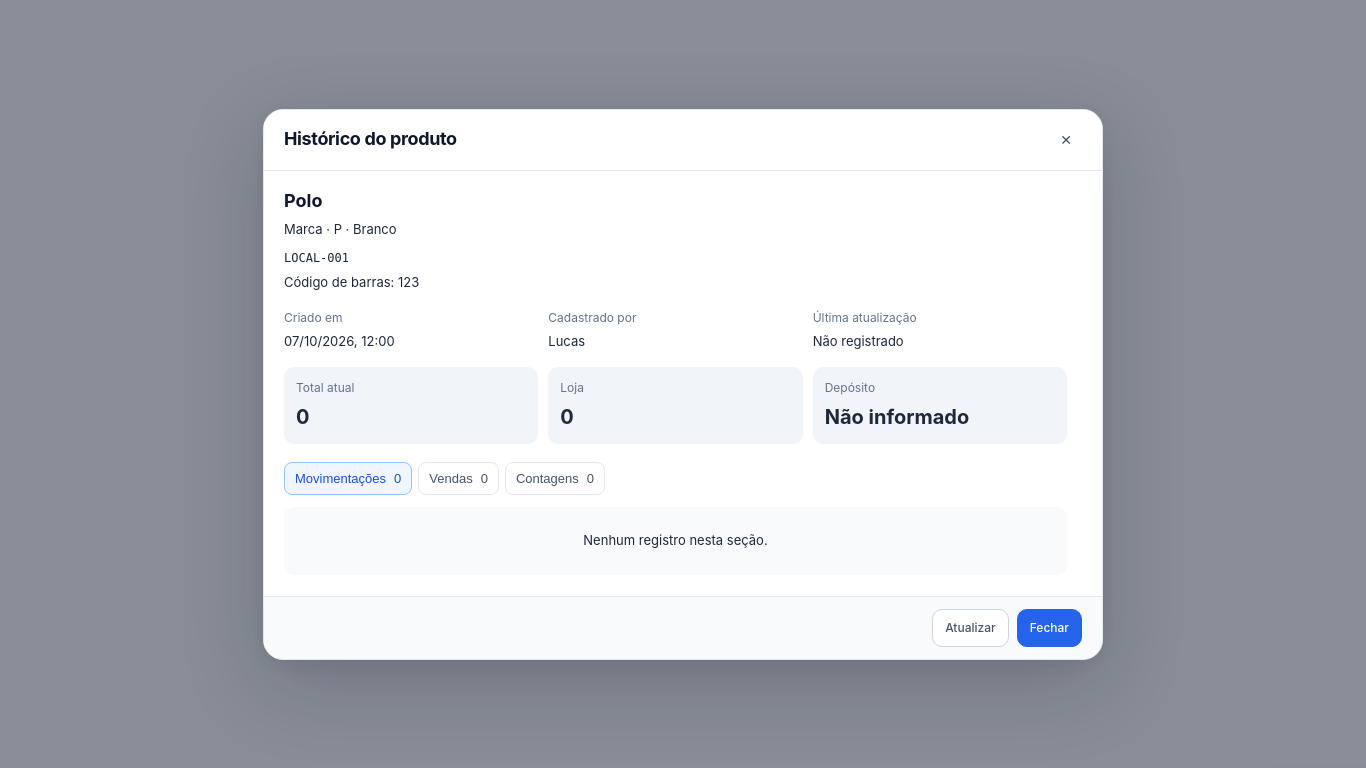
Product history › keeps personal sales private and does not turn a failed request into zero records
Step 1. Click the button "Vendas 0" → (459, 478), box [418,462,499,495]
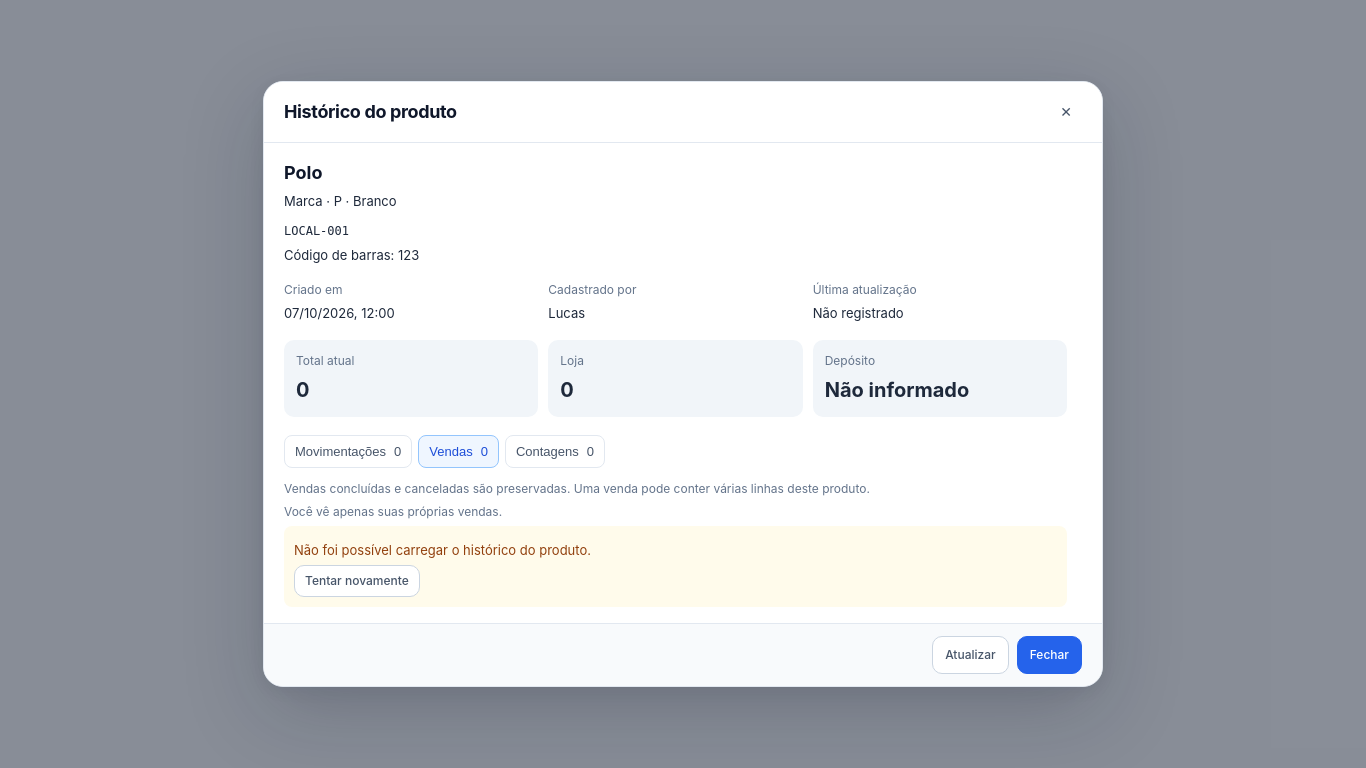
expect the text "Você vê apenas suas próprias vendas." is shown: met, box [284,504,502,518]
expect the message "Não foi possível carregar o histórico do produto. Tentar novamente" is shown: met, box [284,526,1067,607]
expect the text with class "history-empty" is gone: met
Step 2. Click the button "Tentar novamente" → (357, 581), box [294,565,420,597]
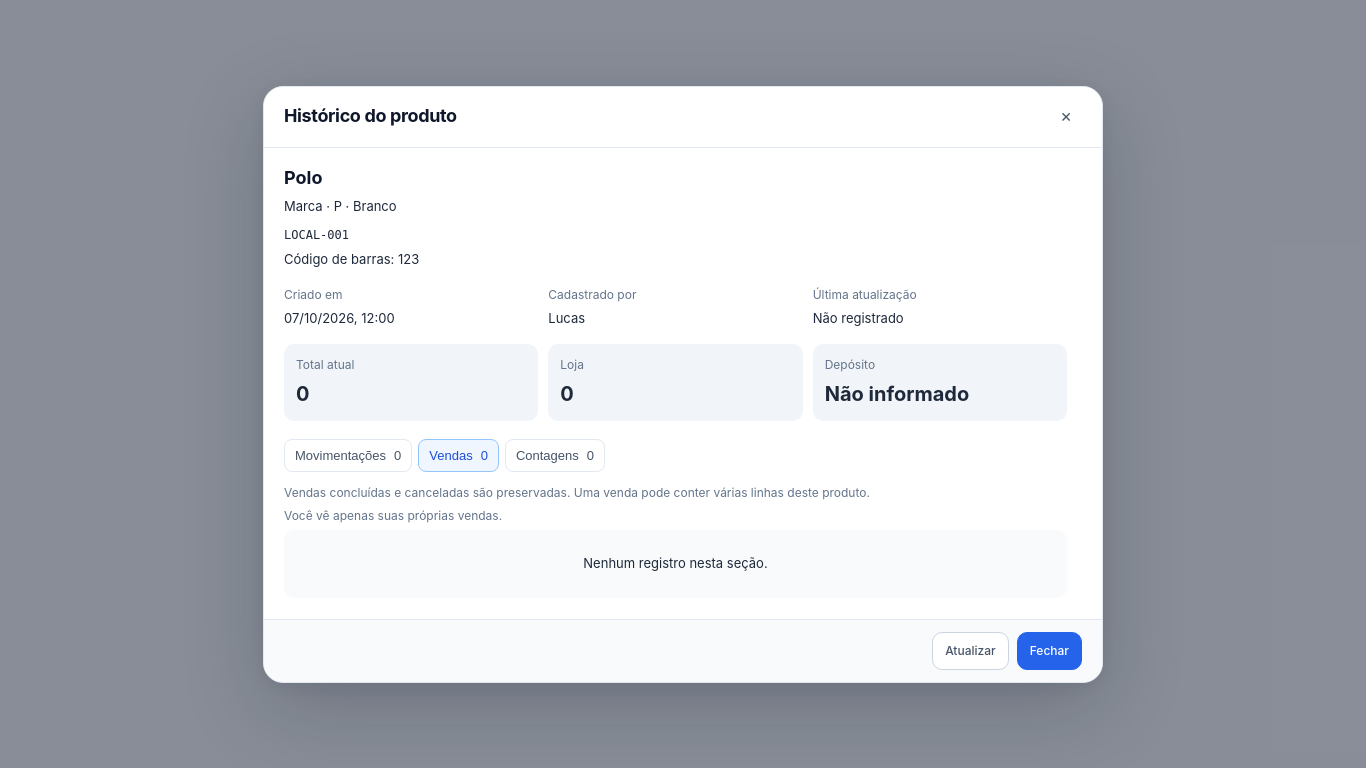
expect the message "Não foi possível carregar o histórico do produto. Tentar novamente" is gone: met
